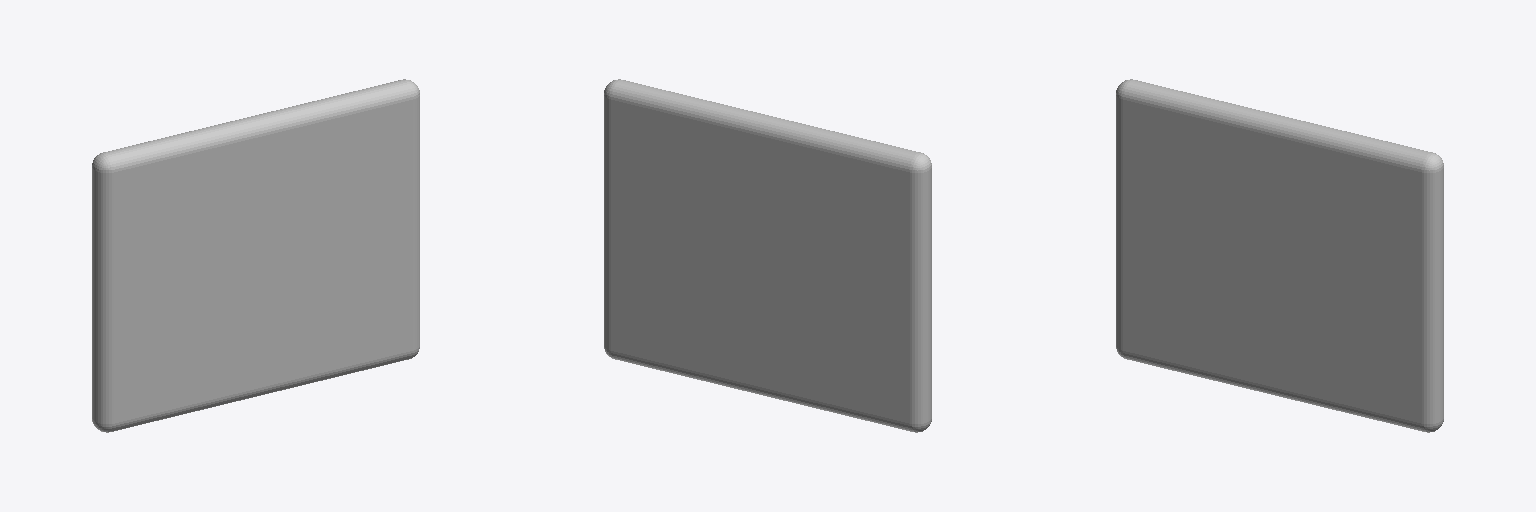
File: plaque.obj
The picture shows the model from 3 angles: view 1: azimuth 30°, elevation 25°; view 2: azimuth 150°, elevation 25°; view 3: azimuth 330°, elevation 25°; orthographic projection.
Visible parts, largest first — view 1: plaque; view 2: plaque; view 3: plaque.
Boxes of the visible parts, x1=… form: plaque: x1=92, y1=79, x2=419, y2=432; plaque: x1=604, y1=79, x2=931, y2=432; plaque: x1=1116, y1=79, x2=1443, y2=432.
Size of the model in its own units: 2.59 by 2.12 by 0.2112.